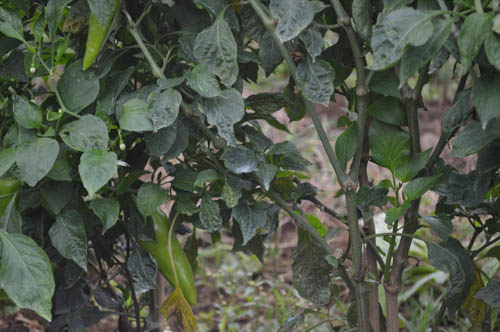ChiliPepper: (145, 214, 201, 306), (84, 8, 119, 75)
